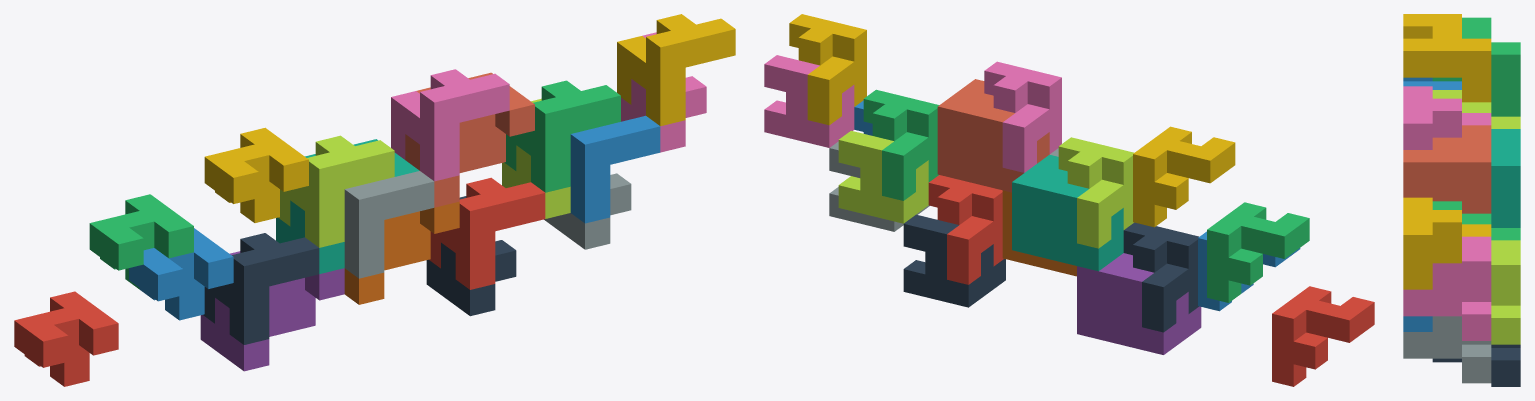
The model's file is tiling.obj.
3 renders of one model, left to right at view 1: azimuth 30°, elevation 25°; view 2: azimuth 150°, elevation 25°; view 3: azimuth 270°, elevation 25°, orthographic. The views are drawn at different scales.
Visible parts, largest first — view 1: copy_2_domain_4, copy_2_domain_8, copy_2_domain_1, copy_2_domain_5, copy_2_domain_3, copy_2_domain_7, copy_1_domain_1, copy_1_domain_4, copy_2_domain_2, copy_2_domain_6, copy_1_domain_3, copy_1_domain_2 (+11 smaller); view 2: copy_1_domain_1, copy_1_domain_3, copy_1_domain_4, copy_2_domain_8, copy_2_domain_4, copy_2_domain_3, copy_2_domain_7, copy_2_domain_1, copy_2_domain_5, copy_3_domain_5, copy_3_domain_1, copy_3_domain_7 (+10 smaller); view 3: copy_1_domain_4, copy_3_domain_8, copy_2_domain_8, copy_1_domain_8, copy_2_domain_4, copy_3_domain_6, copy_3_domain_7, copy_1_domain_3, copy_1_domain_7, copy_3_domain_5, copy_3_domain_4, copy_2_domain_7 (+4 smaller).
Boxes of the visible parts, <box> form: copy_2_domain_4: <box>391,69,509,181</box>; copy_2_domain_8: <box>617,14,735,126</box>; copy_2_domain_1: <box>203,233,319,344</box>; copy_2_domain_5: <box>429,177,545,289</box>; copy_2_domain_3: <box>278,135,394,247</box>; copy_2_domain_7: <box>504,80,620,192</box>; copy_1_domain_1: <box>14,291,118,386</box>; copy_1_domain_4: <box>204,127,308,222</box>; copy_2_domain_2: <box>344,171,434,278</box>; copy_2_domain_6: <box>570,115,660,223</box>; copy_1_domain_3: <box>89,194,193,289</box>; copy_1_domain_2: <box>129,228,233,320</box>; copy_1_domain_1: <box>1272,286,1374,386</box>; copy_1_domain_3: <box>1207,202,1309,302</box>; copy_1_domain_4: <box>1133,126,1235,227</box>; copy_2_domain_8: <box>789,14,866,125</box>; copy_2_domain_4: <box>984,61,1061,172</box>; copy_2_domain_3: <box>1058,137,1134,248</box>; copy_2_domain_7: <box>863,89,939,200</box>; copy_2_domain_1: <box>1123,222,1198,332</box>; copy_2_domain_5: <box>928,175,1003,284</box>; copy_3_domain_5: <box>903,214,1005,307</box>; copy_3_domain_1: <box>1098,262,1201,354</box>; copy_3_domain_7: <box>838,130,928,223</box>; copy_1_domain_4: <box>1403,14,1491,102</box>; copy_3_domain_8: <box>1403,236,1491,340</box>; copy_2_domain_8: <box>1403,197,1491,289</box>; copy_1_domain_8: <box>1403,137,1491,213</box>; copy_2_domain_4: <box>1403,86,1491,149</box>; copy_3_domain_6: <box>1403,316,1491,383</box>; copy_3_domain_7: <box>1491,240,1520,344</box>; copy_1_domain_3: <box>1432,17,1520,116</box>; copy_1_domain_7: <box>1491,153,1520,227</box>; copy_3_domain_5: <box>1432,344,1520,386</box>; copy_3_domain_4: <box>1403,125,1491,201</box>; copy_2_domain_7: <box>1432,201,1520,240</box>.
Size of the model in its own units: 27 by 9 by 4.
